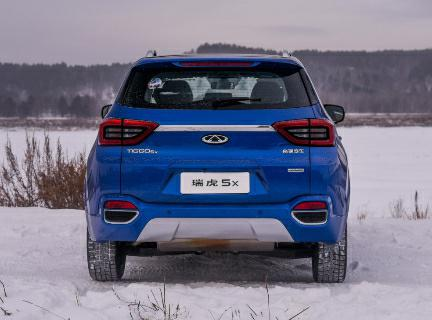奇瑞-瑞虎5x: (80, 47, 354, 289)
